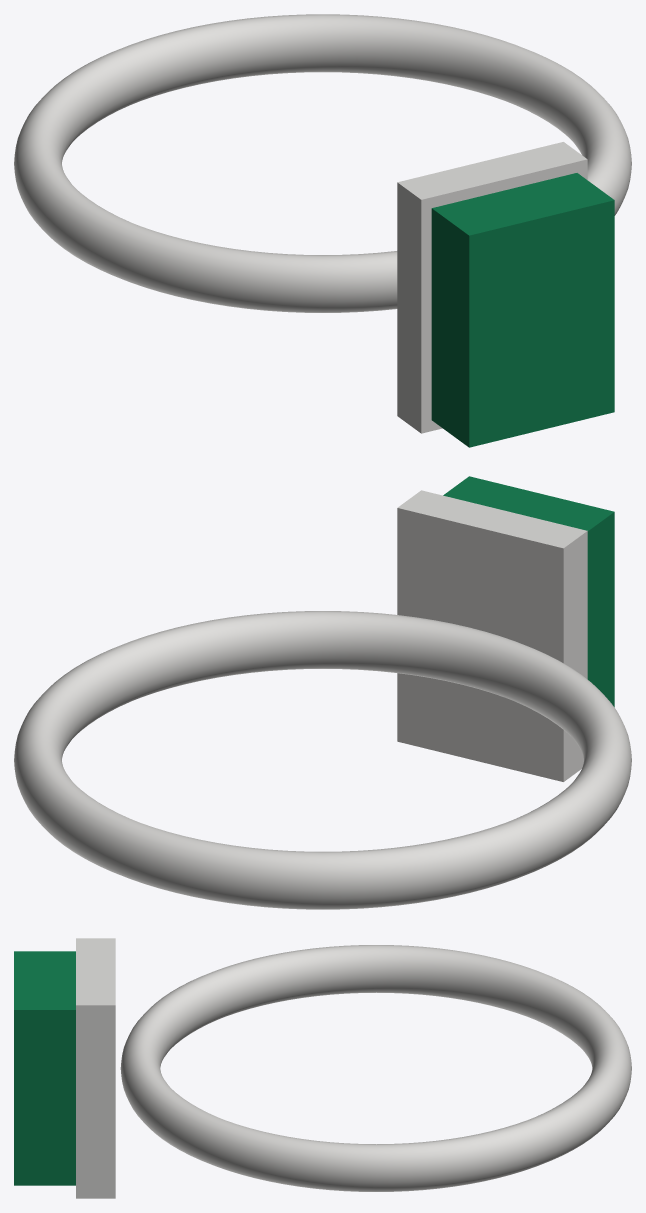
The model's file is ring-emerald.glb.
3 views of the same model, one above another, from view 1: azimuth 30°, elevation 25°; view 2: azimuth 150°, elevation 25°; view 3: azimuth 270°, elevation 25° (orthographic). The views are drawn at different scales.
Parts seen in each view (by area): view 1: band, stone, bezel; view 2: band, bezel, stone; view 3: band, stone, bezel.
Part boxes in pixels (x1=…): band: x1=14, y1=14, x2=631, y2=312; stone: x1=431, y1=173, x2=614, y2=447; bezel: x1=397, y1=142, x2=587, y2=433; band: x1=14, y1=611, x2=631, y2=909; bezel: x1=397, y1=490, x2=587, y2=781; stone: x1=443, y1=476, x2=614, y2=707; band: x1=120, y1=945, x2=631, y2=1191; stone: x1=14, y1=951, x2=75, y2=1185; bezel: x1=76, y1=938, x2=115, y2=1198.
Size of the model in its own units: 0.0206 by 0.0086 by 0.0249.
